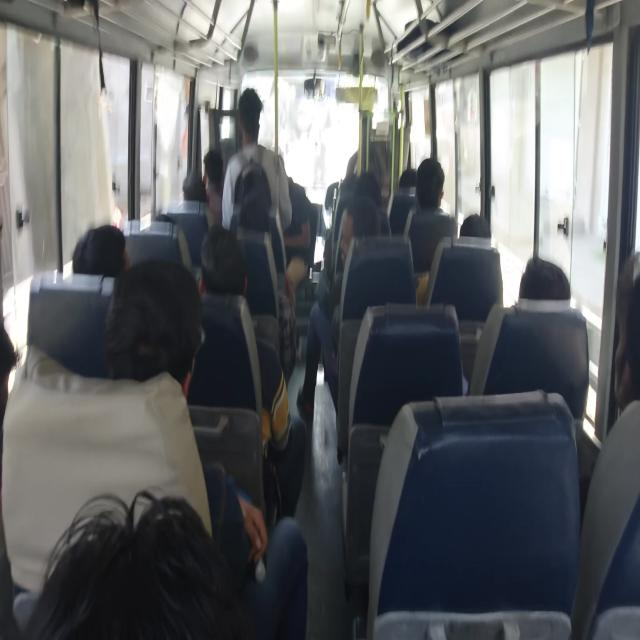person: (86, 507, 296, 640), (111, 277, 235, 420), (0, 336, 79, 500), (591, 275, 640, 479), (54, 232, 142, 328), (276, 150, 302, 294), (196, 243, 231, 307), (419, 148, 449, 218), (356, 195, 394, 248), (197, 156, 233, 204), (174, 155, 207, 207), (528, 255, 553, 320), (157, 207, 187, 254), (244, 89, 265, 152), (456, 205, 483, 253), (244, 214, 270, 256), (362, 167, 381, 215), (244, 206, 278, 229), (401, 171, 423, 190), (342, 170, 360, 192)
